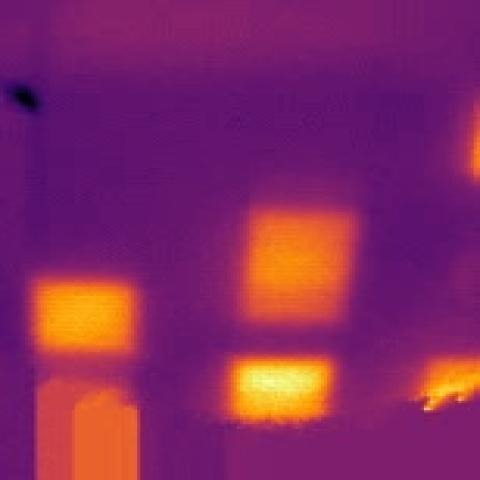fault: (228, 199, 365, 335), (25, 373, 143, 480), (24, 271, 144, 361), (222, 354, 339, 434), (411, 348, 480, 412), (462, 93, 480, 188)
